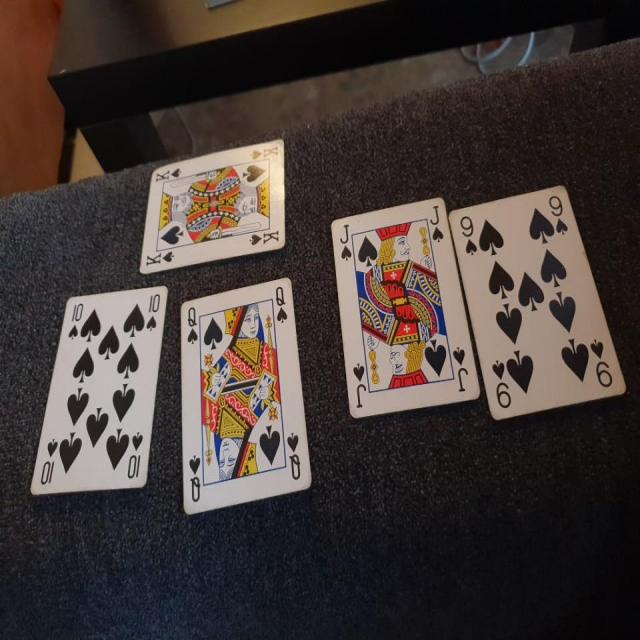10 Spades: (25, 286, 168, 495)
9 Spades: (451, 180, 631, 418)
J Spades: (329, 197, 480, 423)
K Spades: (135, 137, 295, 279)
Q Spades: (175, 288, 315, 517)
